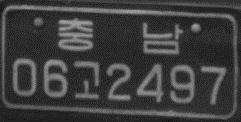0: (11, 56, 37, 97)
2: (105, 61, 131, 101)
4: (136, 63, 163, 103)
6: (42, 58, 68, 99)
7: (200, 63, 225, 104)
9: (168, 63, 196, 105)
고: (73, 59, 100, 100)
충남_D: (57, 16, 183, 55)
